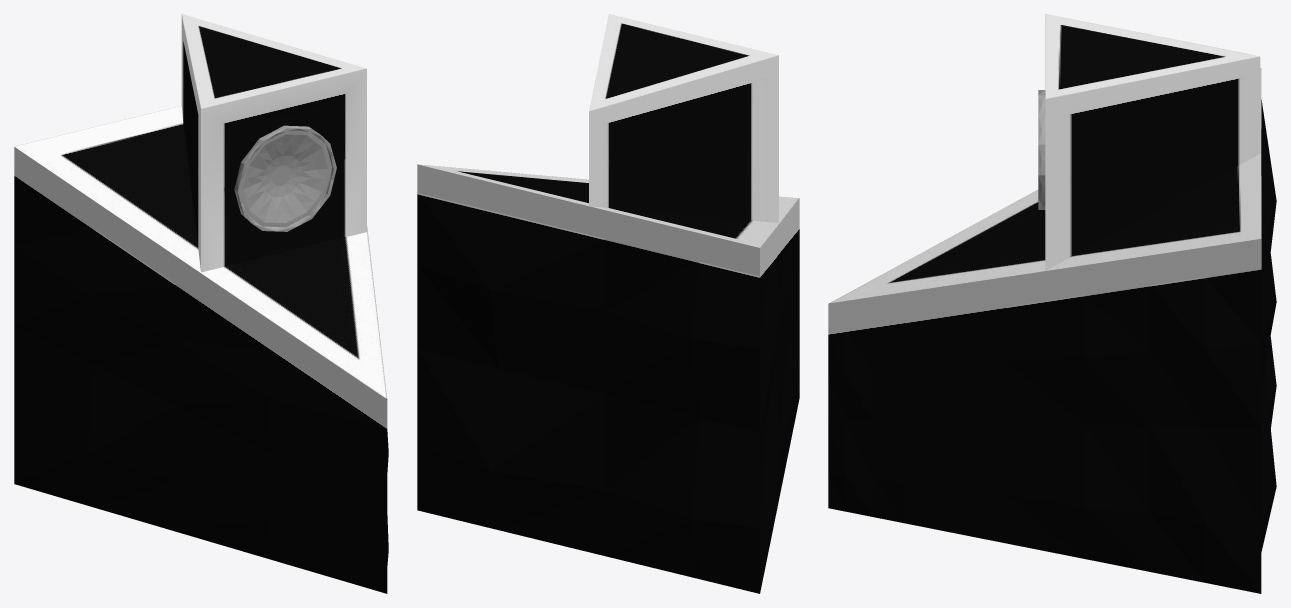
File: SniperTower1.fbx
3 renders of one model, left to right at view 1: azimuth 30°, elevation 25°; view 2: azimuth 150°, elevation 25°; view 3: azimuth 270°, elevation 25°, orthographic. The views are drawn at different scales.
Parts seen in each view (by area): view 1: SniperBot, SniperTop1, Bass; view 2: SniperBot, SniperTop1; view 3: SniperBot, SniperTop1, Bass.
Boxes of the visible parts, x1,y1,x2,y2 form: SniperBot: (14, 106, 388, 593); SniperTop1: (181, 14, 366, 272); Bass: (234, 125, 336, 231); SniperBot: (417, 164, 799, 593); SniperTop1: (589, 14, 778, 222); SniperBot: (828, 68, 1276, 593); SniperTop1: (1045, 14, 1260, 270); Bass: (1038, 90, 1045, 209).
Size of the model in its own units: 1.73 by 2.13 by 1.91.
